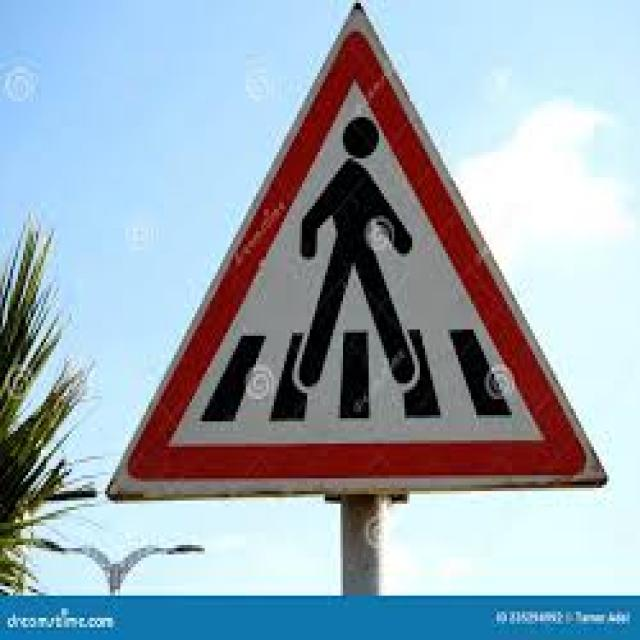Attention-Passage-Pieton: (106, 4, 603, 518)
